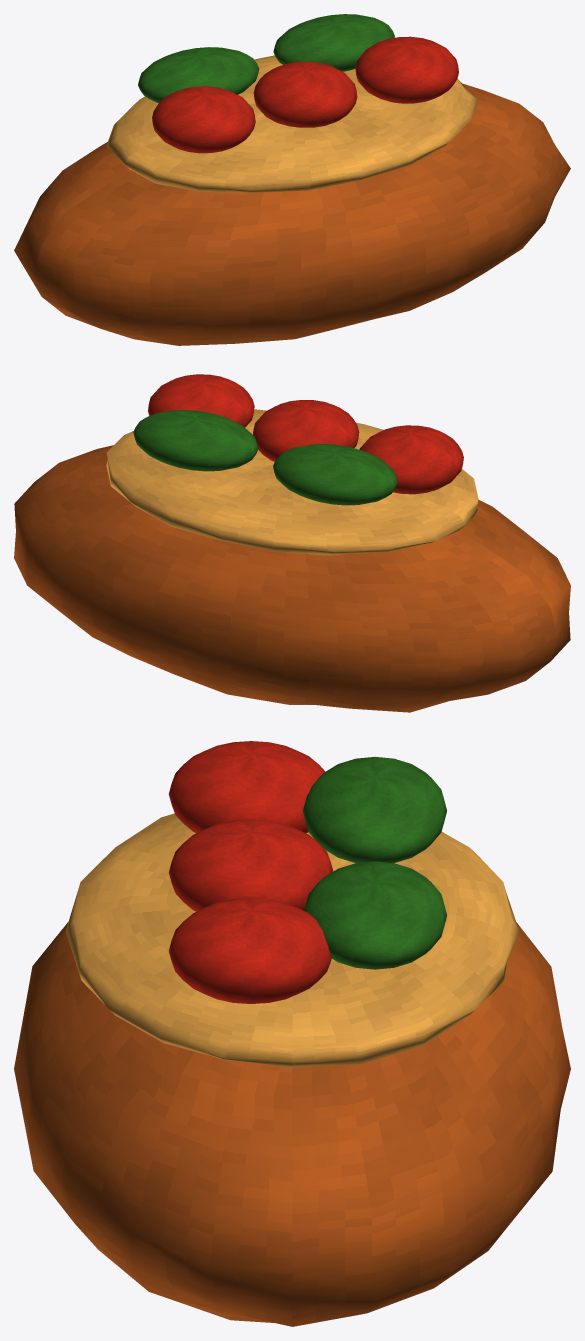
The model's file is bread_shrimp_avocado.glb.
3 renders of one model, top to bottom at view 1: azimuth 30°, elevation 25°; view 2: azimuth 150°, elevation 25°; view 3: azimuth 270°, elevation 25°, orthographic. The views are drawn at different scales.
Visible parts, largest first — view 1: ふっくらした生地.011, 具材を載せるくぼみ.008, えび, えび.002, えび.001, アボカド.001, アボカド; view 2: ふっくらした生地.011, 具材を載せるくぼみ.008, アボカド, アボカド.001, えび, えび.001, えび.002; view 3: ふっくらした生地.011, 具材を載せるくぼみ.008, えび.002, アボカド, アボカド.001, えび.001, えび.
Boxes of the visible parts, bbox=[...] form: ふっくらした生地.011: bbox=[14, 84, 570, 345]; 具材を載せるくぼみ.008: bbox=[106, 55, 478, 192]; えび: bbox=[152, 86, 255, 153]; えび.002: bbox=[355, 36, 458, 103]; えび.001: bbox=[253, 61, 357, 127]; アボカド.001: bbox=[273, 14, 394, 71]; アボカド: bbox=[138, 47, 259, 103]; ふっくらした生地.011: bbox=[14, 445, 570, 712]; 具材を載せるくぼみ.008: bbox=[106, 409, 478, 555]; アボカド: bbox=[273, 444, 397, 505]; アボカド.001: bbox=[133, 410, 258, 471]; えび: bbox=[359, 425, 463, 494]; えび.001: bbox=[252, 400, 359, 461]; えび.002: bbox=[148, 374, 254, 427]; ふっくらした生地.011: bbox=[14, 922, 570, 1326]; 具材を載せるくぼみ.008: bbox=[65, 813, 519, 1067]; えび.002: bbox=[169, 898, 331, 1003]; アボカド: bbox=[303, 757, 446, 863]; アボカド.001: bbox=[304, 861, 446, 969]; えび.001: bbox=[168, 819, 333, 911]; えび: bbox=[168, 741, 325, 833].
Size of the model in its own units: 0.9118 by 0.425 by 0.54.
Materials: 4 (4 with a texture image).
